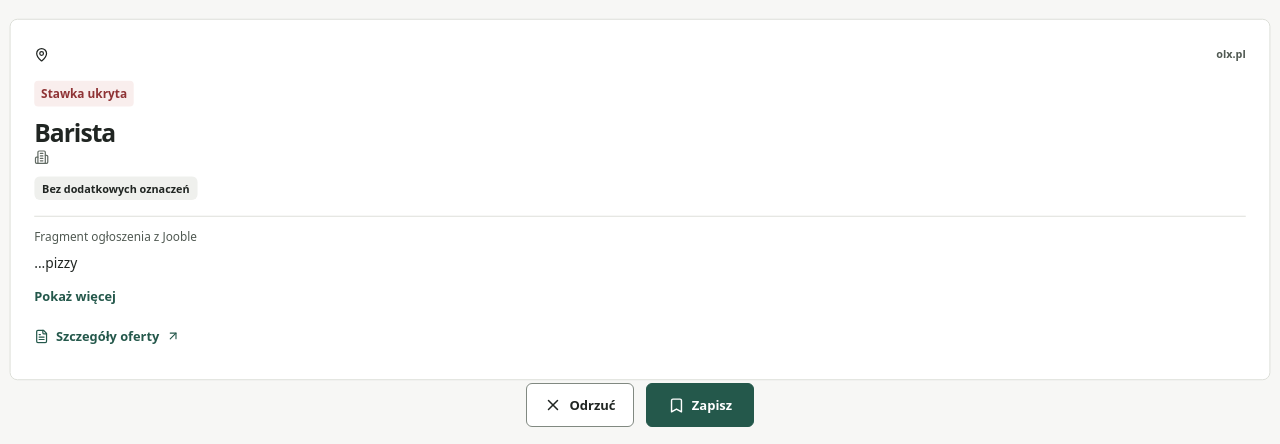
Test: swipe card transitions › marks the beginning of an excerpt from olx.pl before and after expanding
Expected: the text with class "job-description-source-note" reads "Fragment ogłoszenia z Jooble", [34,229,197,246]
Step 1. Click the button with class "job-description-toggle" → [75, 297], box [34,277,116,316]
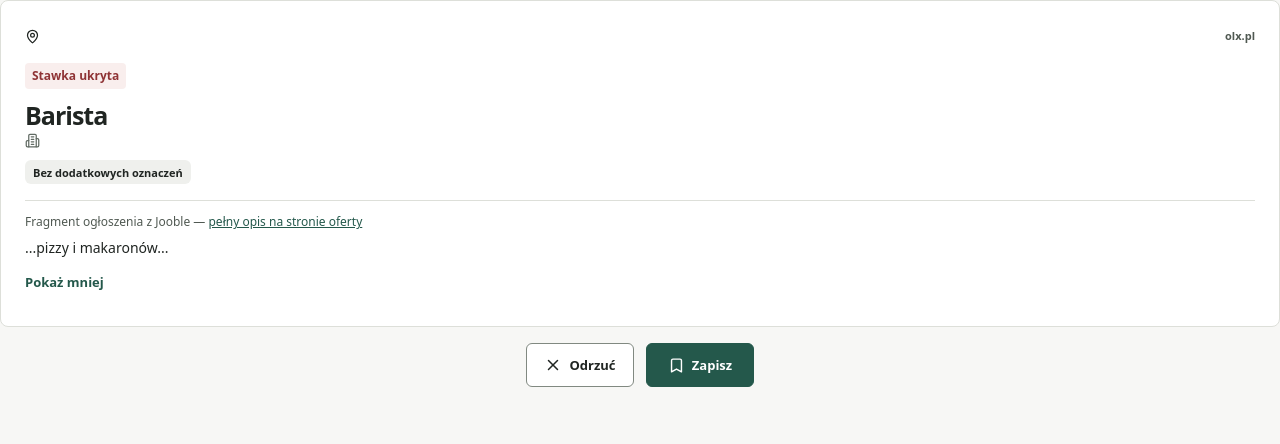
Expected: the number of elements with class "job-description-source-note" is 1, [25,213,362,230]
Result: the text "...pizzy i makaronów..." is shown at [25,238,168,257]
